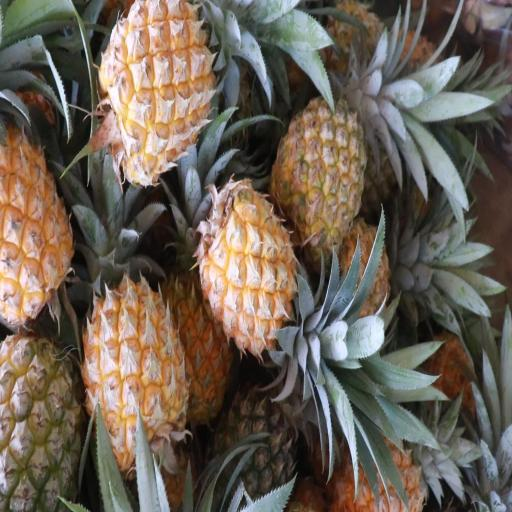------------------------------: (275, 90, 365, 256), (0, 338, 86, 510)
Pineapple - v8 v1: (98, 0, 215, 184), (87, 279, 185, 462), (203, 180, 301, 356), (0, 120, 74, 320), (336, 417, 436, 512), (170, 277, 232, 425)
